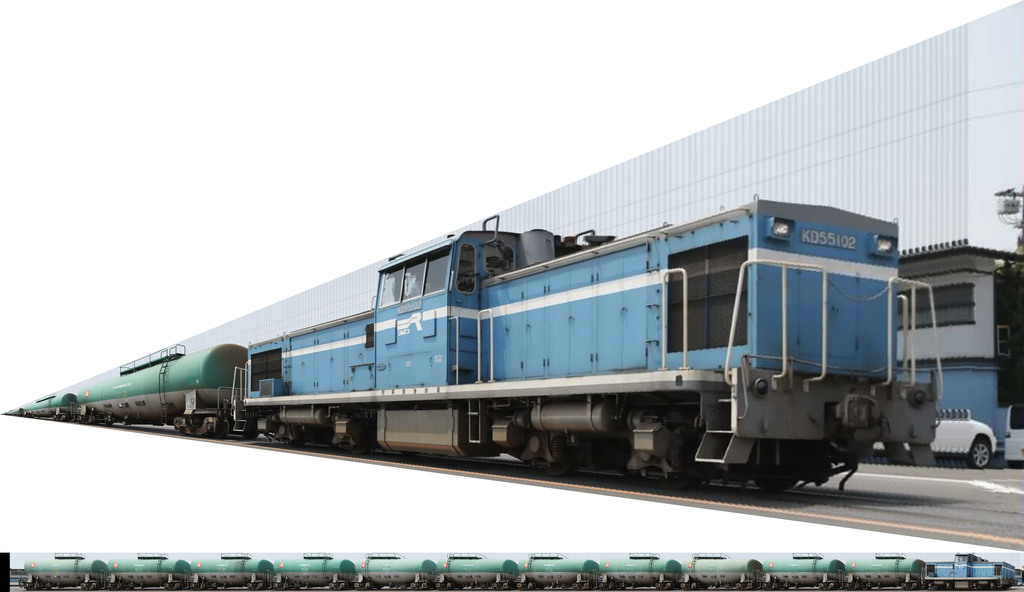train: (0, 189, 945, 495), (21, 547, 1011, 588)
